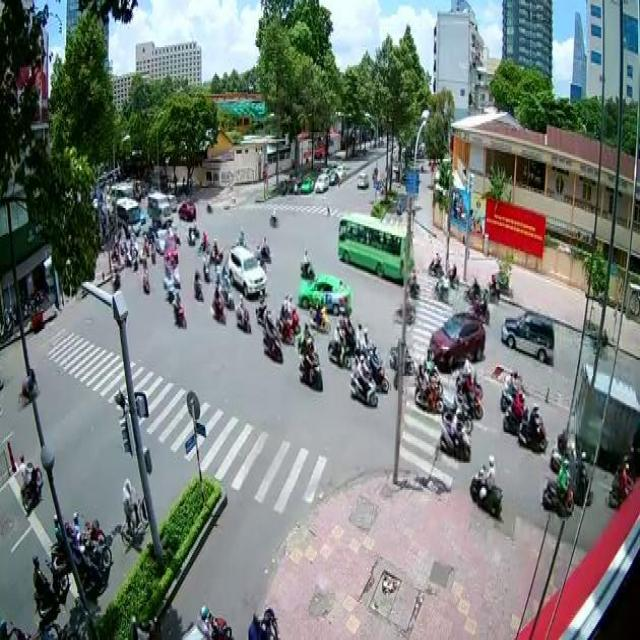bicycle: (119, 474, 151, 544)
bus: (338, 212, 412, 286)
car: (426, 309, 484, 371), (300, 271, 350, 313), (228, 242, 266, 296)
motorcycle: (498, 307, 554, 369), (31, 553, 69, 622), (74, 530, 112, 593), (468, 452, 502, 522), (539, 456, 573, 514), (17, 450, 43, 515), (440, 407, 470, 463), (348, 352, 376, 407), (299, 333, 323, 392), (518, 402, 546, 451), (570, 447, 592, 506), (501, 388, 528, 436), (259, 311, 282, 365), (275, 300, 296, 344), (307, 298, 331, 334), (281, 291, 300, 333), (208, 280, 225, 326), (234, 293, 250, 331), (172, 288, 186, 328), (299, 246, 315, 276), (191, 264, 203, 302)
truck: (573, 362, 640, 468)
